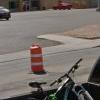Bicycle: (26, 57, 98, 98)
